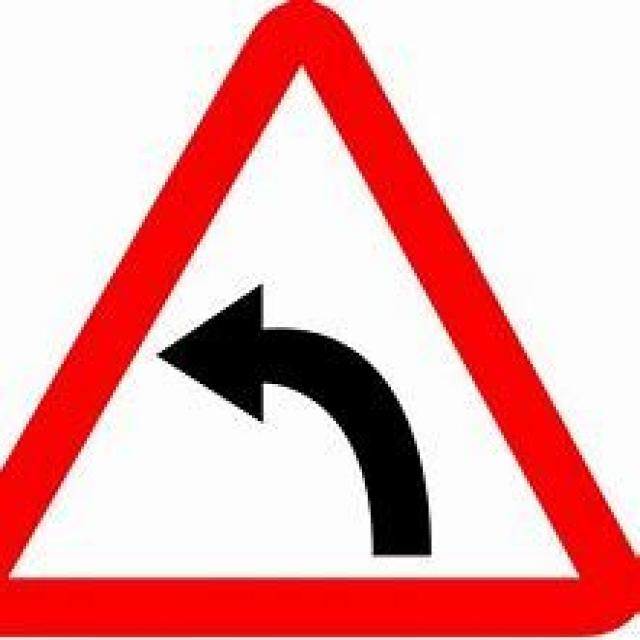LEFT_HAND_CURVE: (0, 0, 637, 637)
